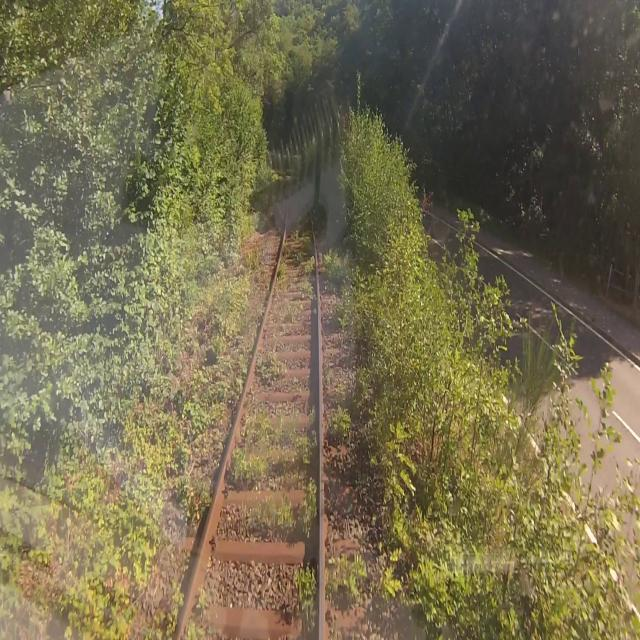Plant: (172, 247, 273, 532), (250, 472, 316, 541), (142, 557, 191, 638), (228, 437, 280, 496), (254, 324, 294, 389), (180, 578, 222, 639), (324, 545, 364, 607), (291, 552, 321, 634), (237, 398, 275, 450), (291, 407, 319, 468), (324, 394, 353, 448), (279, 291, 309, 331), (267, 248, 290, 300), (299, 239, 317, 302), (321, 242, 339, 294)
